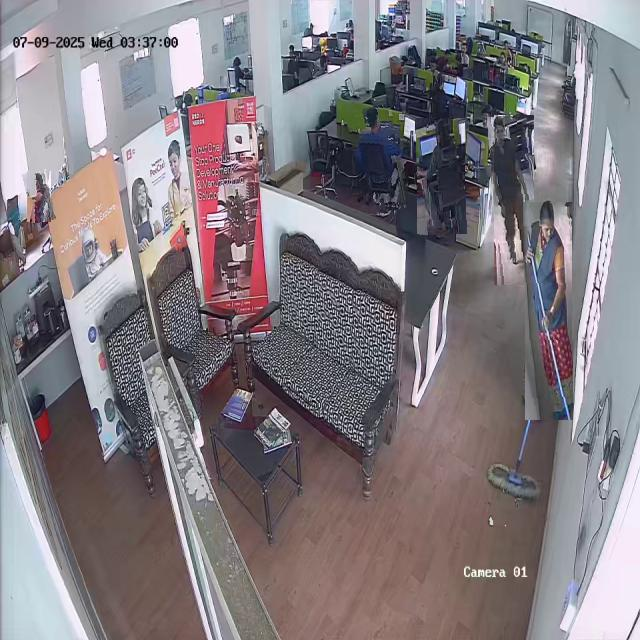person: (524, 202, 573, 420), (490, 115, 538, 286), (350, 105, 407, 215), (416, 118, 466, 235), (25, 170, 53, 223)
